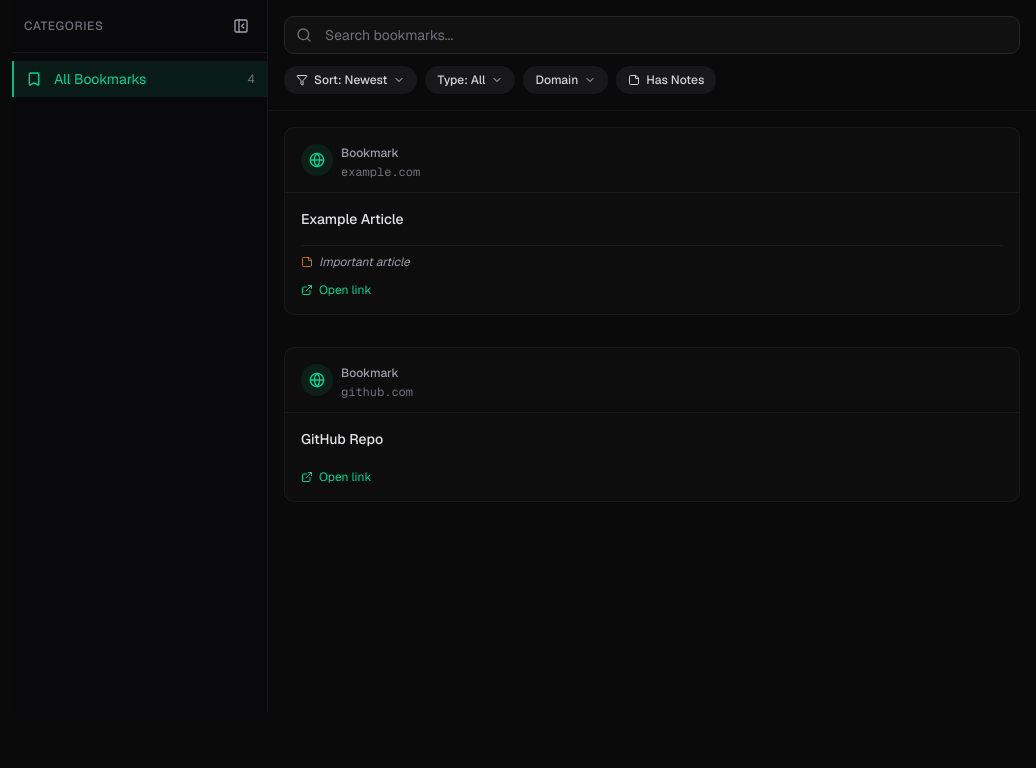
Test: BrowseContent › Filter chips and dropdowns › Type toggle › clicking type toggle shows options: All, Tweet, Non-tweet
The width and height of the screenshot is (1036, 768).
Step 1. Click the button "Type: All" → {"x": 470, "y": 80}, box [426,66,515,94]
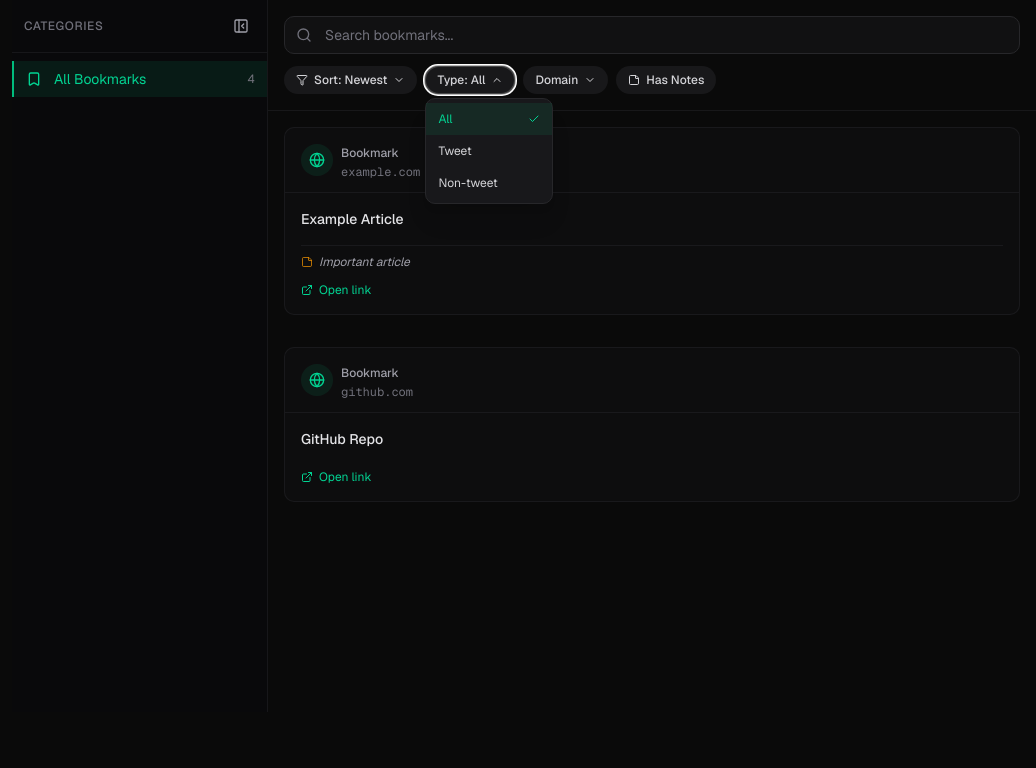
Result: the option "All" is shown at [426,103,552,135]
Result: the option "Tweet" is shown at [426,135,552,167]
Result: the option "Non-tweet" is shown at [426,167,552,199]
